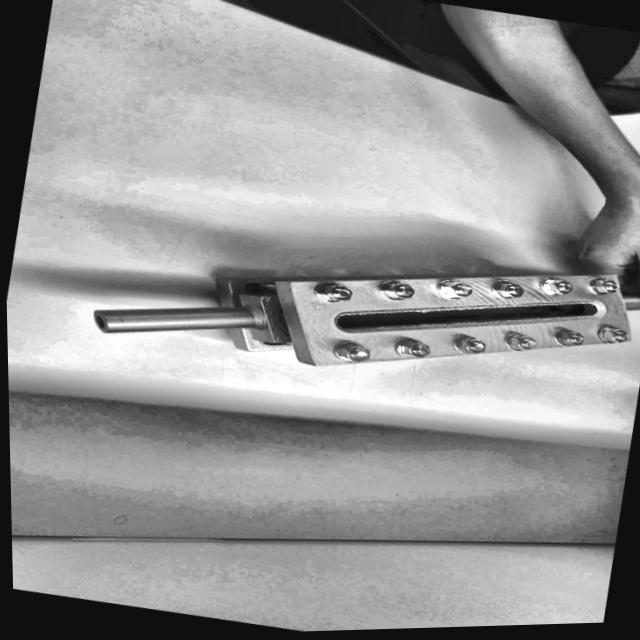ShuiWeiQi_12: (77, 187, 640, 432)
